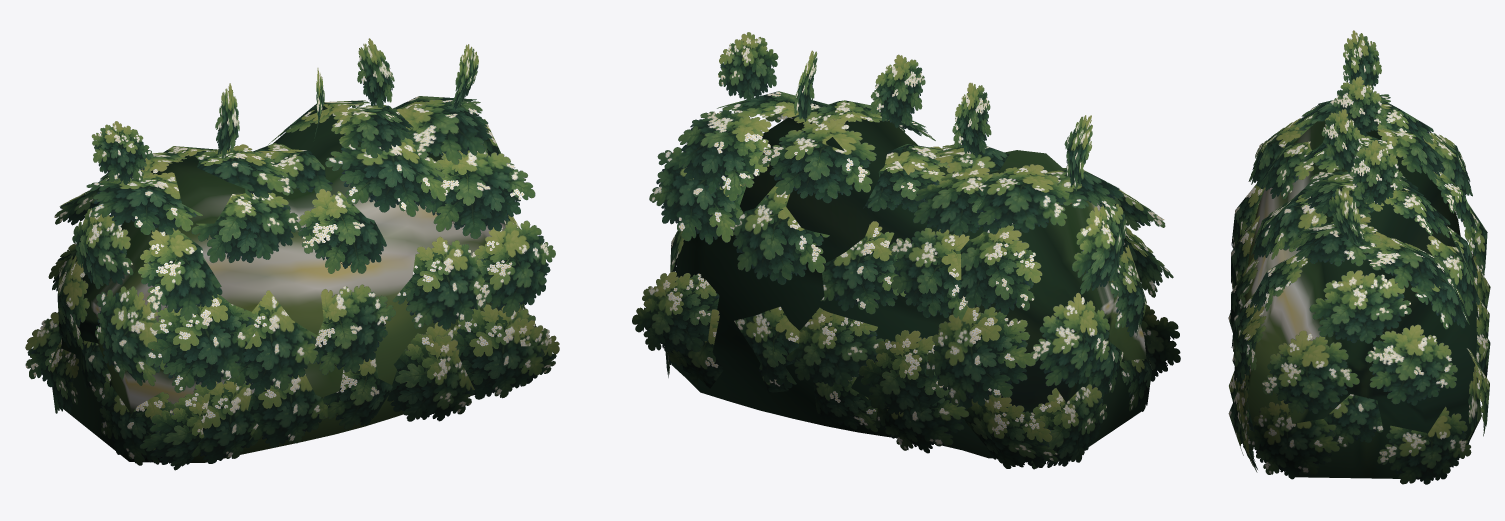
Rendered from hedge_hawthorn.glb.
3 views of the same model, side by side, from view 1: azimuth 30°, elevation 25°; view 2: azimuth 150°, elevation 25°; view 3: azimuth 270°, elevation 25° (orthographic). The views are drawn at different scales.
Visible parts, largest first — view 1: hedge_hawthorn; view 2: hedge_hawthorn; view 3: hedge_hawthorn.
Part boxes in pixels (x1,y1,x2,y2): hedge_hawthorn: [25, 38, 559, 470]; hedge_hawthorn: [632, 32, 1180, 469]; hedge_hawthorn: [1228, 30, 1490, 484].
Bounding box in the file's own units: 2.62 × 1.93 × 1.35.
1 material, 1 textured.
